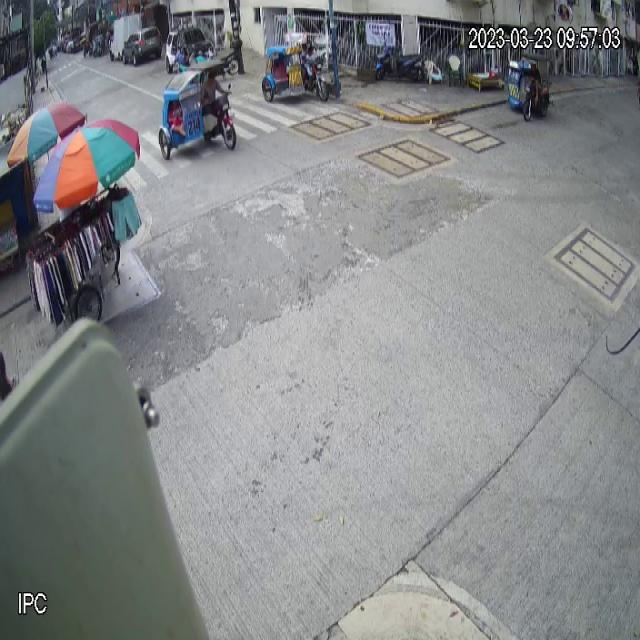Tricycle: (158, 58, 238, 162), (262, 32, 330, 103)
